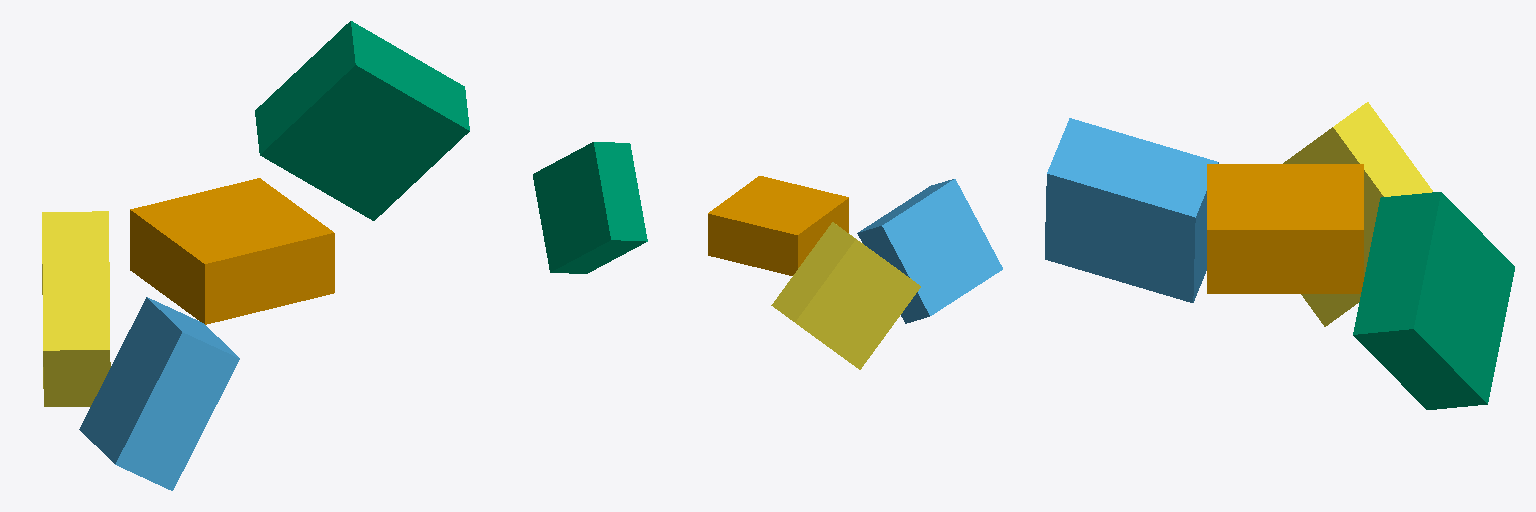
The robot description file, URDF, robot "Model_1":
<?xml version='1.0' encoding='UTF-8'?>
<robot name="Model_1">
  <link name="base_link">
    <inertial>
      <origin xyz="0.0 0.0 0.0" rpy="0.0 -0.0 0.0"/>
      <mass value="1.0"/>
      <inertia ixx="1.0" ixy="0.0" ixz="0.0" iyy="1.0" iyz="0.0" izz="1.0"/>
    </inertial>
    <visual>
      <geometry>
        <box size="0.67 0.67 0.3 "/>
      </geometry>
      <origin xyz="0.0 0.0 0.0" rpy="0.0 -0.0 0.0"/>
    </visual>
    <collision>
      <geometry>
        <box size="0.67 0.67 0.3 "/>
      </geometry>
      <origin xyz="0.0 0.0 0.0" rpy="0.0 0.0 0.0"/>
    </collision>
  </link>
  <link name="arm0">
    <inertial>
      <origin xyz="-0.2754139099504469 -0.5072055461293885 0.024392107765183926" rpy="0.46795266481401376 -0.35131559449541583 -0.8876677875417978"/>
      <mass value="1.0"/>
      <inertia ixx="0.0" ixy="0.0" ixz="0.0" iyy="0.0" iyz="0.0" izz="0.0"/>
    </inertial>
    <visual>
      <geometry>
        <box size="0.67 0.67 0.3 "/>
      </geometry>
      <origin xyz="-0.2754139099504469 -0.5072055461293885 0.024392107765183926" rpy="0.46795266481401376 -0.35131559449541583 -0.8876677875417978"/>
    </visual>
    <collision>
      <geometry>
        <box size="0.67 0.67 0.3 "/>
      </geometry>
      <origin xyz="-0.2754139099504469 -0.5072055461293885 0.024392107765183926" rpy="0.46795266481401376 -0.35131559449541583 -0.8876677875417978"/>
    </collision>
  </link>
  <link name="arm1">
    <inertial>
      <origin xyz="0.44778048549975424 0.46529045892497667 -0.06288045819785076" rpy="0.9356450512879118 0.2631307903209472 -0.2827084637495376"/>
      <mass value="1.0"/>
      <inertia ixx="0.0" ixy="0.0" ixz="0.0" iyy="0.0" iyz="0.0" izz="0.0"/>
    </inertial>
    <visual>
      <geometry>
        <box size="0.67 0.67 0.3 "/>
      </geometry>
      <origin xyz="0.44778048549975424 0.46529045892497667 -0.06288045819785076" rpy="0.9356450512879118 0.2631307903209472 -0.2827084637495376"/>
    </visual>
    <collision>
      <geometry>
        <box size="0.67 0.67 0.3 "/>
      </geometry>
      <origin xyz="0.44778048549975424 0.46529045892497667 -0.06288045819785076" rpy="0.9356450512879118 0.2631307903209472 -0.2827084637495376"/>
    </collision>
  </link>
  <link name="arm2">
    <inertial>
      <origin xyz="-0.3587290330224046 0.1816545161496841 0.022898794935481234" rpy="-0.5951788152823636 -0.5571220521929414 0.30080080395032827"/>
      <mass value="1.0"/>
      <inertia ixx="0.0" ixy="0.0" ixz="0.0" iyy="0.0" iyz="0.0" izz="0.0"/>
    </inertial>
    <visual>
      <geometry>
        <box size="0.67 0.67 0.3 "/>
      </geometry>
      <origin xyz="-0.3587290330224046 0.1816545161496841 0.022898794935481234" rpy="-0.5951788152823636 -0.5571220521929414 0.30080080395032827"/>
    </visual>
    <collision>
      <geometry>
        <box size="0.67 0.67 0.3 "/>
      </geometry>
      <origin xyz="-0.3587290330224046 0.1816545161496841 0.022898794935481234" rpy="-0.5951788152823636 -0.5571220521929414 0.30080080395032827"/>
    </collision>
  </link>
  <joint name="0" type="revolute">
    <limit effort="1.0" velocity="1.0" lower="-1.0" upper="1.0"/>
    <parent link="base_link"/>
    <child link="arm0"/>
    <axis xyz="1. 0. 0."/>
    <origin xyz="-0.2754139099504469 -0.5072055461293885 0.024392107765183926" rpy="0.46795266481401376 -0.35131559449541583 -0.8876677875417978"/>
  </joint>
  <joint name="1" type="revolute">
    <limit effort="1.0" velocity="1.0" lower="-1.0" upper="1.0"/>
    <parent link="base_link"/>
    <child link="arm1"/>
    <axis xyz="1. 0. 0."/>
    <origin xyz="0.44778048549975424 0.46529045892497667 -0.06288045819785076" rpy="0.9356450512879118 0.2631307903209472 -0.2827084637495376"/>
  </joint>
  <joint name="2" type="revolute">
    <limit effort="1.0" velocity="1.0" lower="-1.0" upper="1.0"/>
    <parent link="base_link"/>
    <child link="arm2"/>
    <axis xyz="1. 0. 0."/>
    <origin xyz="-0.3587290330224046 0.1816545161496841 0.022898794935481234" rpy="-0.5951788152823636 -0.5571220521929414 0.30080080395032827"/>
  </joint>
</robot>

--- What the picture shows (computed from the rendered views, not written in the file) ---
The picture shows the robot from 3 angles, left to right: view 1: azimuth 30°, elevation 25°; view 2: azimuth 150°, elevation 25°; view 3: azimuth 270°, elevation 25°; orthographic projection.
Robot: Model_1 — 4 links, 3 joints (3 revolute); root link base_link; default pose: every joint at zero.
Visible links, largest first — view 1: arm1, base_link, arm0, arm2; view 2: arm1, arm2, arm0, base_link; view 3: arm1, arm0, base_link, arm2.
Link boxes in pixels (left/top/right/bottom): arm1: left=255, top=21, right=469, bottom=220; base_link: left=130, top=178, right=334, bottom=324; arm0: left=79, top=297, right=239, bottom=490; arm2: left=42, top=211, right=110, bottom=406; arm1: left=533, top=142, right=647, bottom=273; arm2: left=771, top=222, right=920, bottom=369; arm0: left=857, top=179, right=1002, bottom=323; base_link: left=708, top=176, right=848, bottom=275; arm1: left=1353, top=192, right=1514, bottom=409; arm0: left=1045, top=118, right=1218, bottom=302; base_link: left=1207, top=164, right=1363, bottom=293; arm2: left=1283, top=102, right=1432, bottom=326.
Size in the robot's own frame: 2.66 by 2.01 by 1.35 metres.
Geometry: primitives only (box / cylinder / sphere), no mesh files.